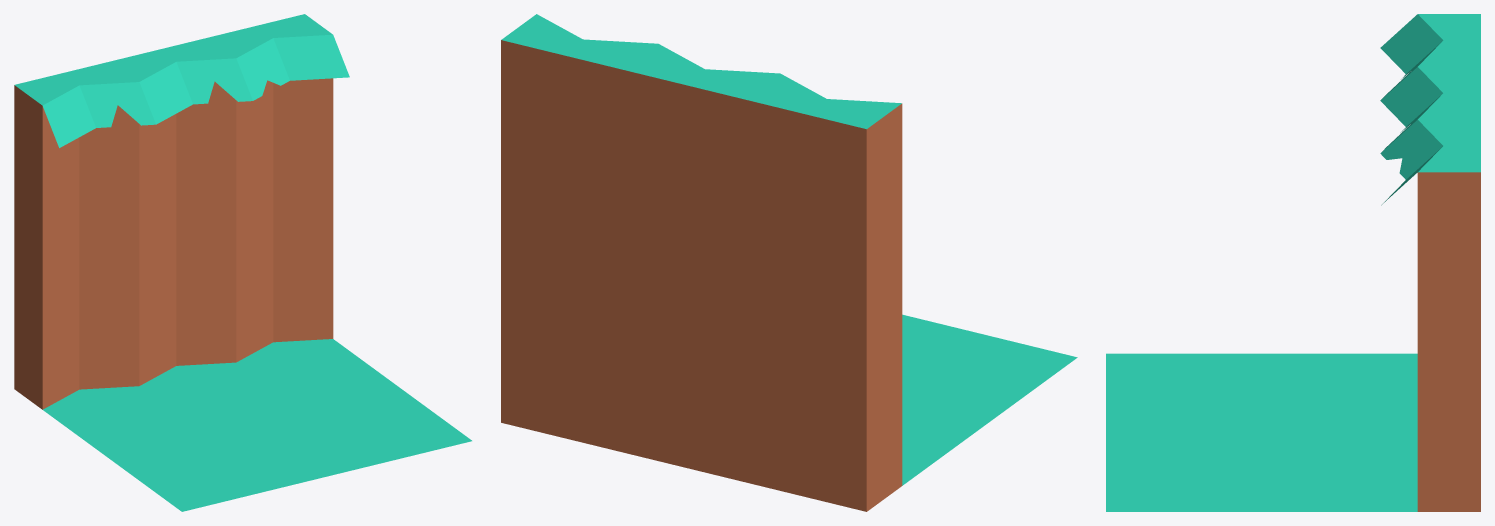
The model's file is borderSouth.glb.
The picture shows the model from 3 angles, left to right: view 1: azimuth 30°, elevation 25°; view 2: azimuth 150°, elevation 25°; view 3: azimuth 270°, elevation 25°; orthographic projection. The views are drawn at different scales.
Visible parts, largest first — view 1: mergedBlocks(Clone); view 2: mergedBlocks(Clone); view 3: mergedBlocks(Clone).
Part boxes in pixels (x1=…): mergedBlocks(Clone): x1=14, y1=14, x2=471, y2=511; mergedBlocks(Clone): x1=501, y1=14, x2=1077, y2=511; mergedBlocks(Clone): x1=1106, y1=14, x2=1480, y2=511.
Bounding box in the file's own units: 1 × 1 × 1.
